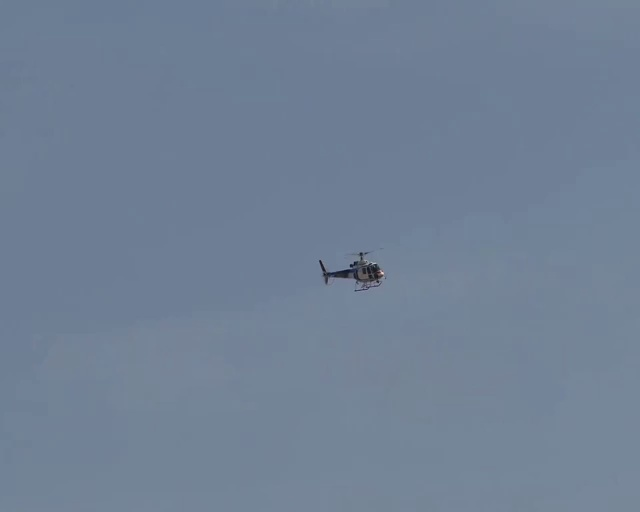HELICOPTER: (317, 247, 387, 292)
